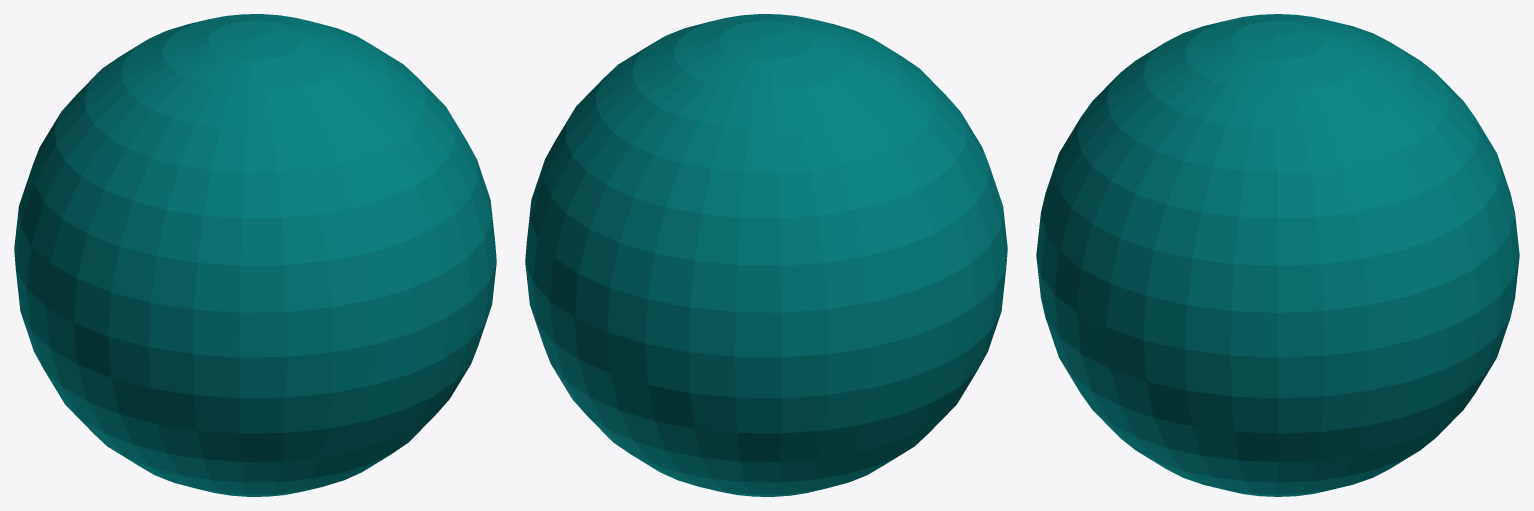
File: 敵から出るVein.fbx
3 renders of one model, left to right at view 1: azimuth 30°, elevation 25°; view 2: azimuth 150°, elevation 25°; view 3: azimuth 270°, elevation 25°, orthographic.
Parts seen in each view (by area): view 1: 球; view 2: 球; view 3: 球.
Boxes of the visible parts, x1=… form: 球: x1=14, y1=14, x2=496, y2=496; 球: x1=525, y1=14, x2=1007, y2=496; 球: x1=1036, y1=14, x2=1519, y2=496.
Size of the model in its own units: 200 by 200 by 200.
